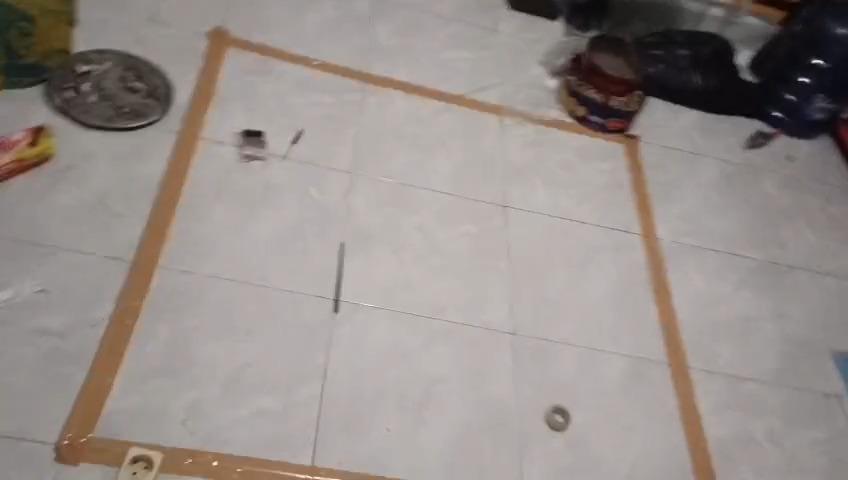floor marking: (56, 26, 715, 479), (146, 444, 370, 479)
